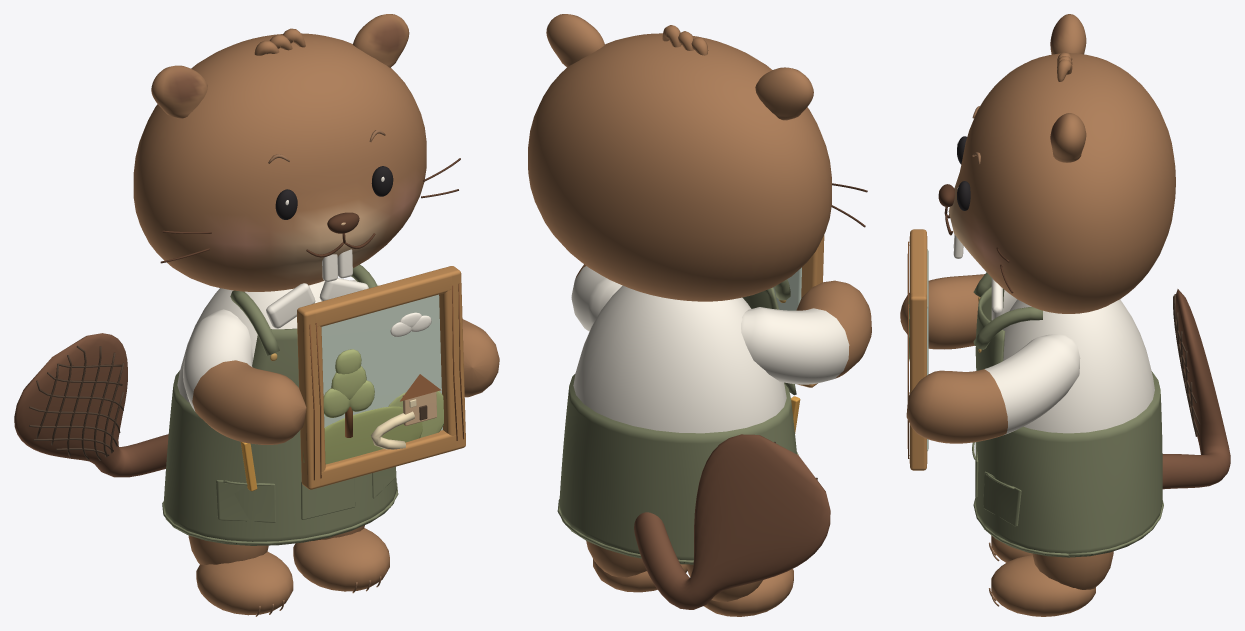
File: craft-beaver-low.glb
3 renders of one model, left to right at view 1: azimuth 30°, elevation 25°; view 2: azimuth 150°, elevation 25°; view 3: azimuth 270°, elevation 25°, orthographic. The views are drawn at different scales.
Visible parts, largest first — view 1: beaver soft head, Apron fitted skirt, Frame.Honey oak frame.batch, Beaver rear-rooted broad paddle, Continuous sleeve and gripping paw L, Landscape backing, BodyRig.beaver clothing.batch, Soft foot L, Soft foot R, Tail.Deep warm brown.batch, Frame.Landscape sage.batch, Picture hill (+13 smaller); view 2: beaver soft head, beaver tailored torso, Beaver rear-rooted broad paddle, Apron fitted skirt, Continuous sleeve and gripping paw L, Beaver rooted round ear L, Beaver rooted round ear R, Soft foot L, Continuous sleeve and gripping paw R, BodyRig.beaver clothing.batch, Continuous ankle R, Soft foot R (+4 smaller); view 3: beaver soft head, Apron fitted skirt, Continuous sleeve and gripping paw R, beaver tailored torso, Beaver rear-rooted broad paddle, BodyRig.beaver clothing.batch, Continuous sleeve and gripping paw L, Soft foot R, Frame.Honey oak frame.batch, Continuous ankle R, Beaver rooted round ear R, Beaver rooted round ear L (+4 smaller).
Boxes of the visible parts, box(x1,y1,x2,y2) form: beaver soft head: box(133, 33, 426, 291); Apron fitted skirt: box(163, 370, 396, 545); Frame.Honey oak frame.batch: box(297, 266, 465, 489); Beaver rear-rooted broad paddle: box(14, 333, 168, 477); Continuous sleeve and gripping paw L: box(183, 309, 306, 444); Landscape backing: box(321, 294, 442, 430); BodyRig.beaver clothing.batch: box(162, 264, 398, 544); Soft foot L: box(196, 551, 293, 615); Soft foot R: box(293, 528, 389, 591); Tail.Deep warm brown.batch: box(29, 345, 124, 460); Frame.Landscape sage.batch: box(323, 349, 443, 437); Picture hill: box(303, 406, 422, 464); beaver soft head: box(528, 33, 831, 301); beaver tailored torso: box(573, 285, 786, 433); Beaver rear-rooted broad paddle: box(634, 434, 830, 609); Apron fitted skirt: box(559, 374, 796, 564); Continuous sleeve and gripping paw L: box(741, 280, 871, 384); Beaver rooted round ear L: box(755, 67, 813, 120); Beaver rooted round ear R: box(546, 14, 604, 67); Soft foot L: box(704, 569, 793, 616); Continuous sleeve and gripping paw R: box(571, 264, 622, 331); BodyRig.beaver clothing.batch: box(557, 279, 798, 563); Continuous ankle R: box(586, 541, 646, 577); Soft foot R: box(593, 559, 687, 592); beaver soft head: box(948, 53, 1175, 313); Apron fitted skirt: box(975, 371, 1162, 557); Continuous sleeve and gripping paw R: box(906, 334, 1080, 443); beaver tailored torso: box(1003, 299, 1154, 433); Beaver rear-rooted broad paddle: box(1162, 289, 1230, 489); BodyRig.beaver clothing.batch: box(972, 272, 1163, 556); Continuous sleeve and gripping paw L: box(900, 274, 1017, 349); Soft foot R: box(991, 555, 1095, 616); Frame.Honey oak frame.batch: box(909, 229, 927, 470); Continuous ankle R: box(1032, 551, 1113, 589); Beaver rooted round ear R: box(1050, 113, 1086, 162); Beaver rooted round ear L: box(1050, 14, 1086, 54).
Bounding box in the file's own units: 1.1 × 1.64 × 0.9245.
